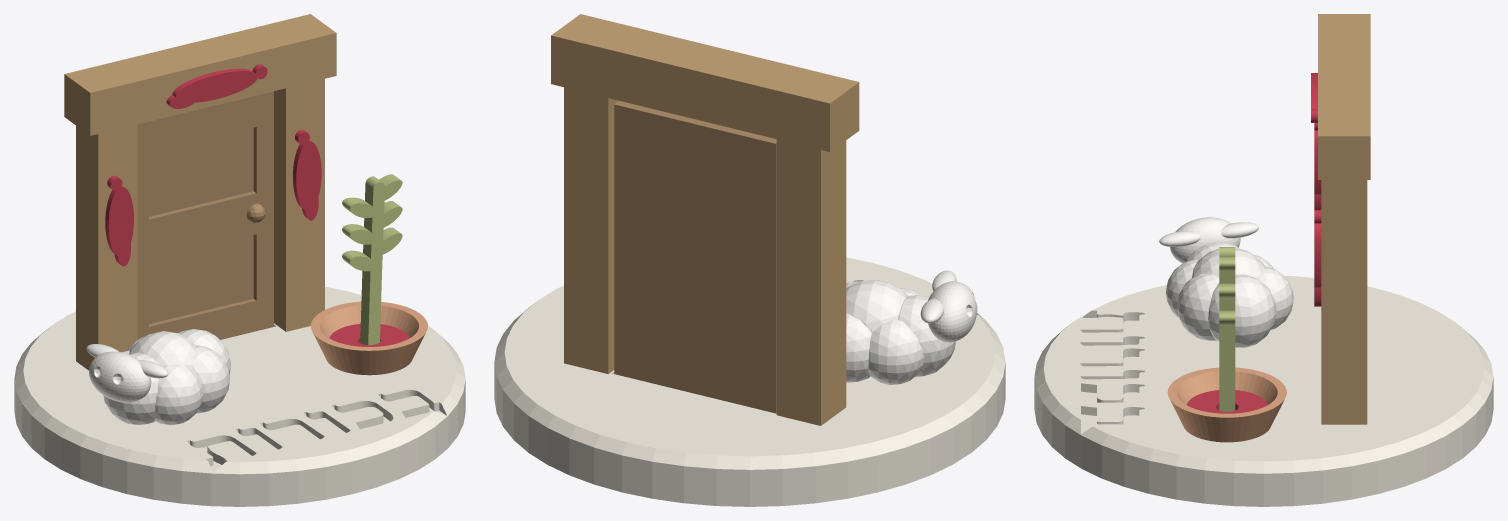
File: firstborn.glb
3 views of the same model, side by side, from view 1: azimuth 30°, elevation 25°; view 2: azimuth 150°, elevation 25°; view 3: azimuth 270°, elevation 25° (orthographic). The views are drawn at different scales.
Parts seen in each view (by area): view 1: stage, door, lintel, post-r, lamb, post-l, hyssop, basin, lintel--blood, post-r--blood, post-l--blood, basin--blood; view 2: stage, door, lintel, post-r, post-l, lamb; view 3: stage, post-l, lamb, lintel, basin, hyssop, basin--blood, post-l--blood.
Boxes of the visible parts, bbox=[...] form: stage: bbox=[14, 286, 465, 506]; door: bbox=[137, 91, 273, 339]; lintel: bbox=[64, 14, 336, 135]; post-r: bbox=[76, 124, 137, 370]; lamb: bbox=[86, 329, 230, 425]; post-l: bbox=[274, 79, 324, 331]; hyssop: bbox=[342, 174, 402, 345]; basin: bbox=[310, 301, 427, 375]; lintel--blood: bbox=[166, 64, 267, 108]; post-r--blood: bbox=[105, 175, 133, 266]; post-l--blood: bbox=[293, 130, 321, 220]; basin--blood: bbox=[329, 323, 409, 346]; stage: bbox=[494, 257, 1005, 506]; door: bbox=[614, 101, 776, 413]; lintel: bbox=[551, 14, 859, 151]; post-r: bbox=[776, 139, 846, 425]; post-l: bbox=[564, 87, 618, 373]; lamb: bbox=[846, 270, 977, 384]; stage: bbox=[1034, 276, 1493, 506]; post-l: bbox=[1321, 180, 1367, 424]; lamb: bbox=[1159, 217, 1293, 347]; lintel: bbox=[1318, 14, 1370, 179]; basin: bbox=[1167, 367, 1286, 442]; hyssop: bbox=[1219, 247, 1235, 411]; basin--blood: bbox=[1186, 390, 1267, 413]; post-l--blood: bbox=[1314, 210, 1321, 306].
Bounding box in the file's own units: 40 × 32.2 × 40.
